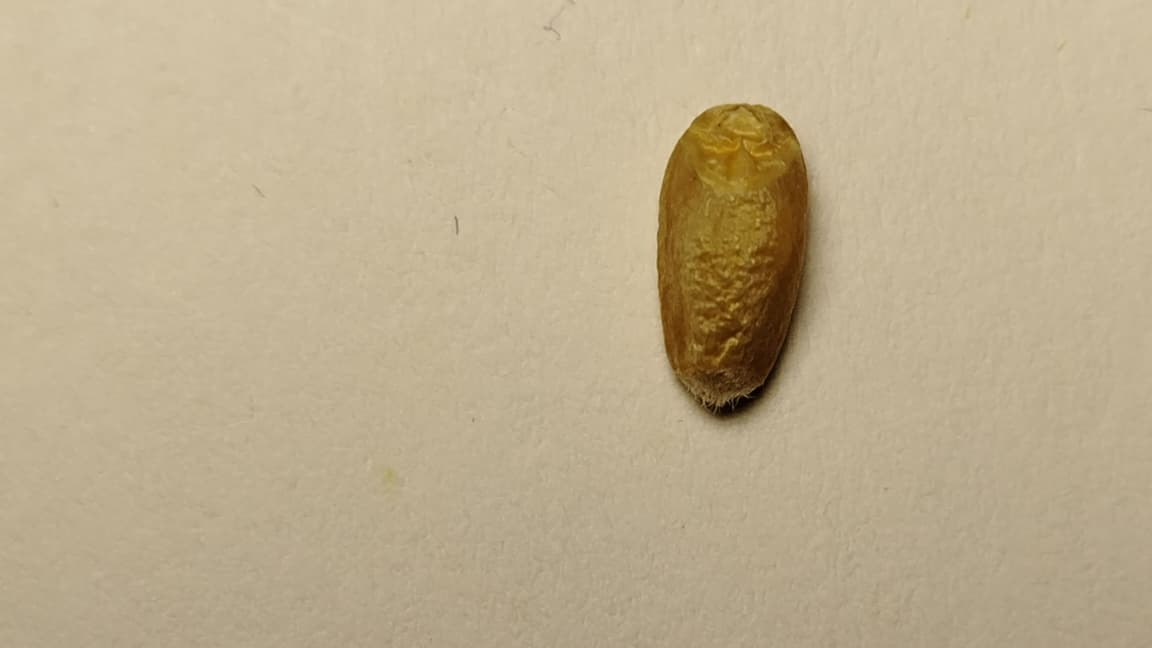healthy: (657, 103, 807, 406)
